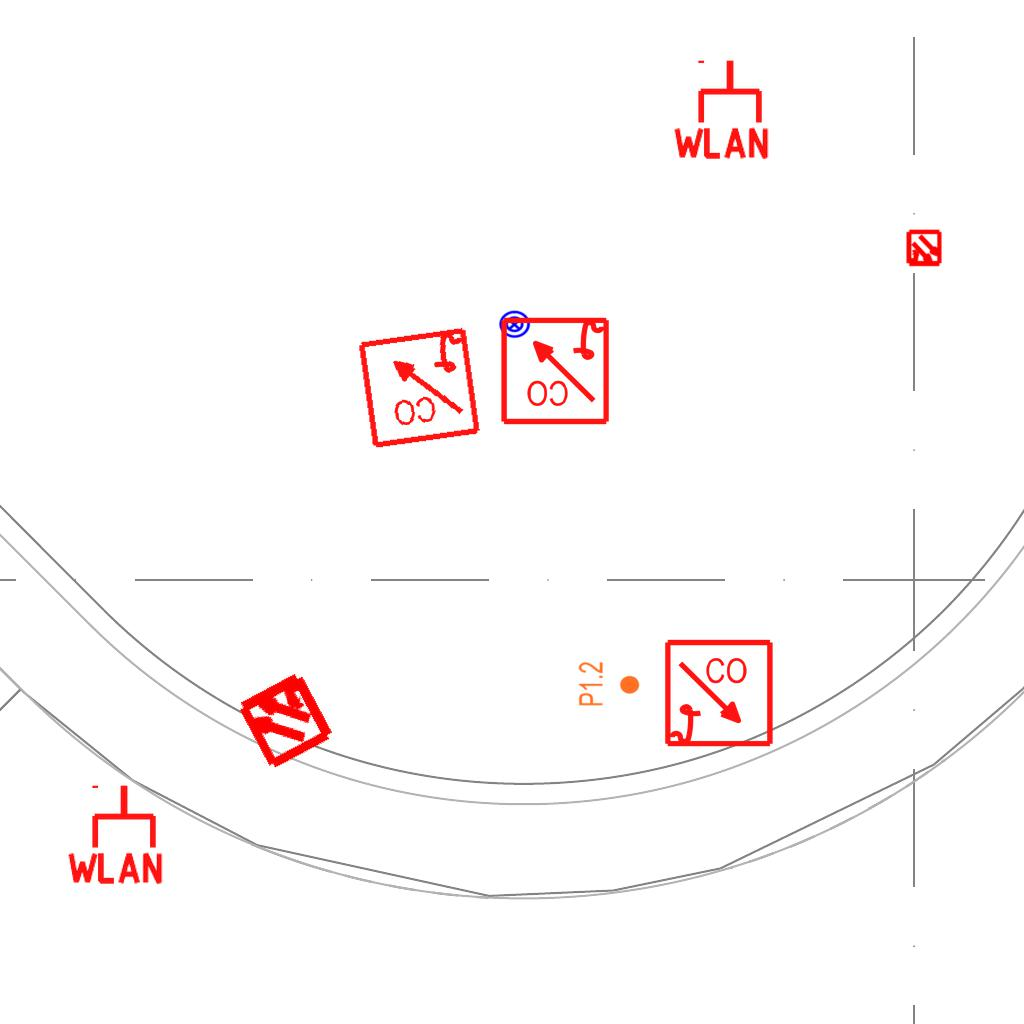Downlight_LED_Einbauleuchten_Flur: (577, 661, 641, 707)
OT_Multisensormelder_(Kombination_RMO_WMD): (208, 642, 361, 795), (896, 221, 952, 277)
ROA_Rauchmelder_optisch_mit_Signalgeber_(Sockelsirene): (354, 322, 483, 451), (663, 638, 776, 751), (498, 313, 611, 426)
Taster_beleuchtet: (498, 308, 531, 341)
WLAN: (63, 781, 167, 886), (669, 56, 773, 161)
